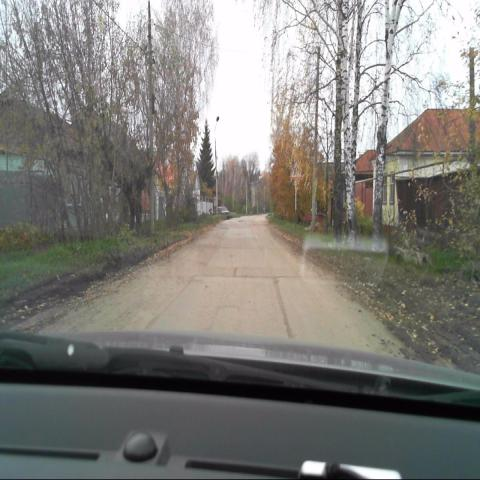1_23: (289, 158, 301, 179)
